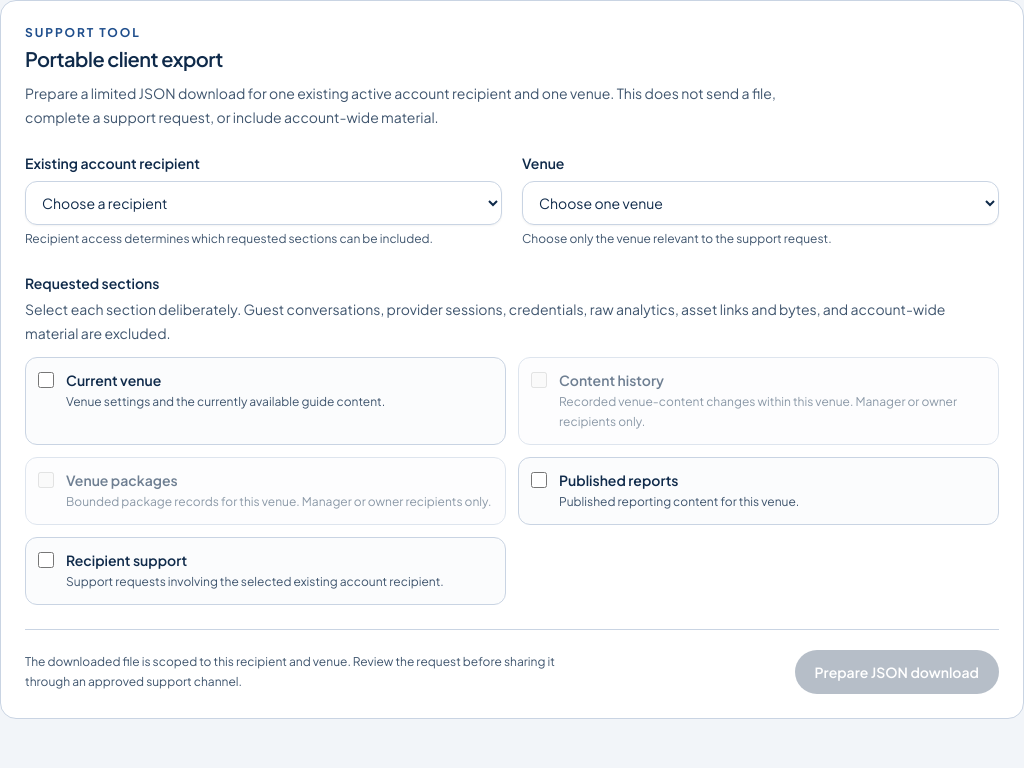
Scenario: SupportPortableExportForm › rejects a successful non-JSON response without downloading it
The width and height of the screenshot is (1024, 768).
Select "Avery Operator with a deliberately long name for the select control · avery@exam" in the dropdown labelled "Existing account recipient": (264, 203) left=25, top=181, right=502, bottom=225
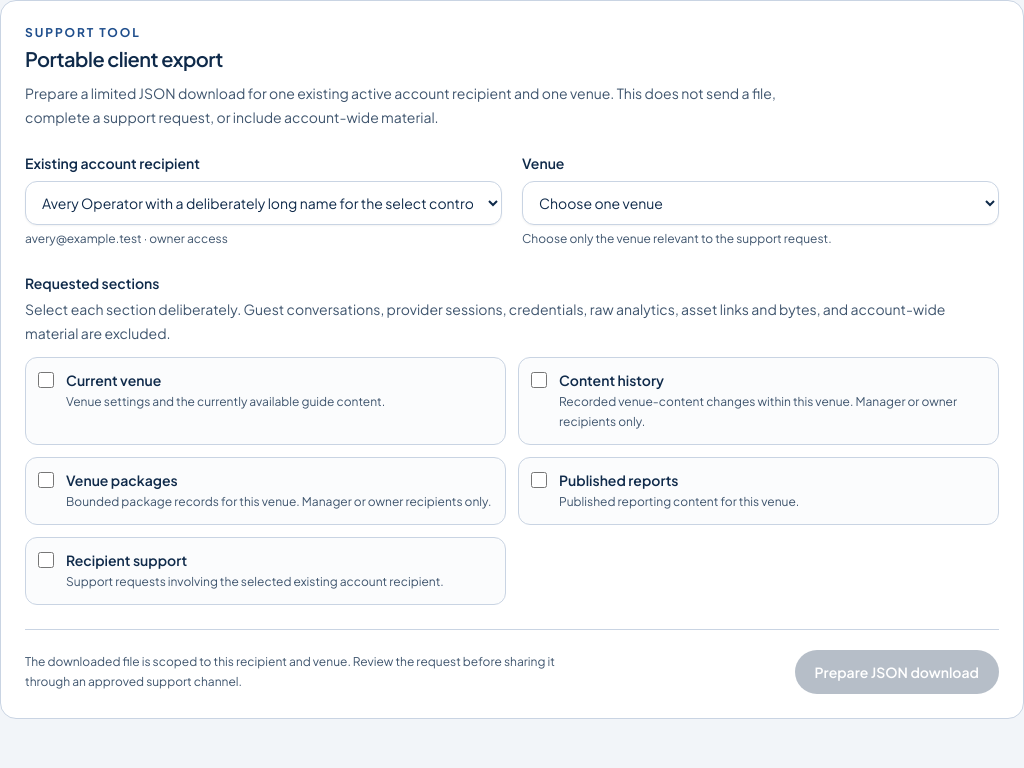
Select "Riverside Aquarium with an intentionally long venue label" in the dropdown labelled "Venue": (760, 203) left=522, top=181, right=999, bottom=225
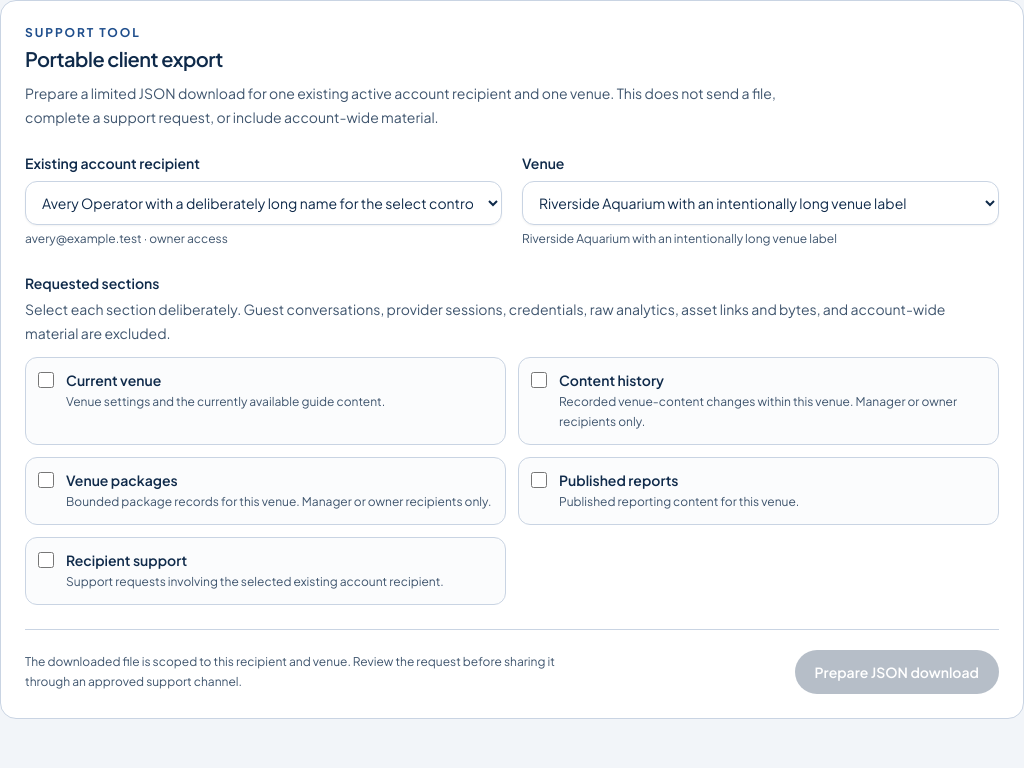
Click the checkbox labelled "Current venue": (46, 380) left=38, top=372, right=54, bottom=388
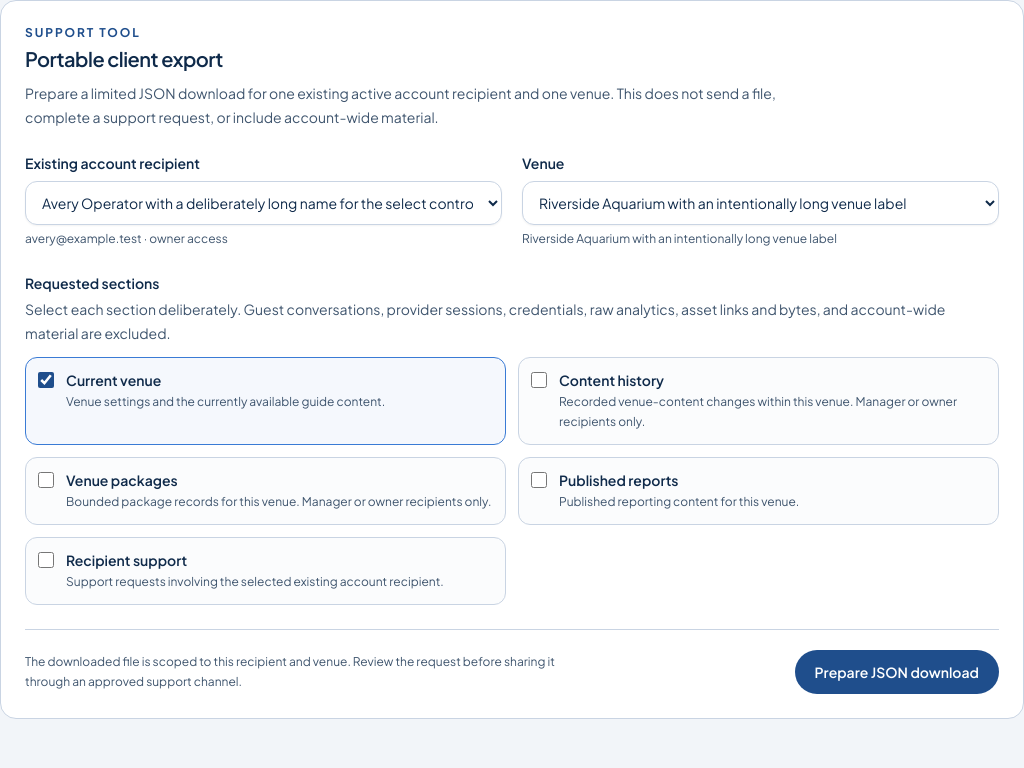
Click the button "Prepare JSON download": (897, 672) left=794, top=650, right=999, bottom=694
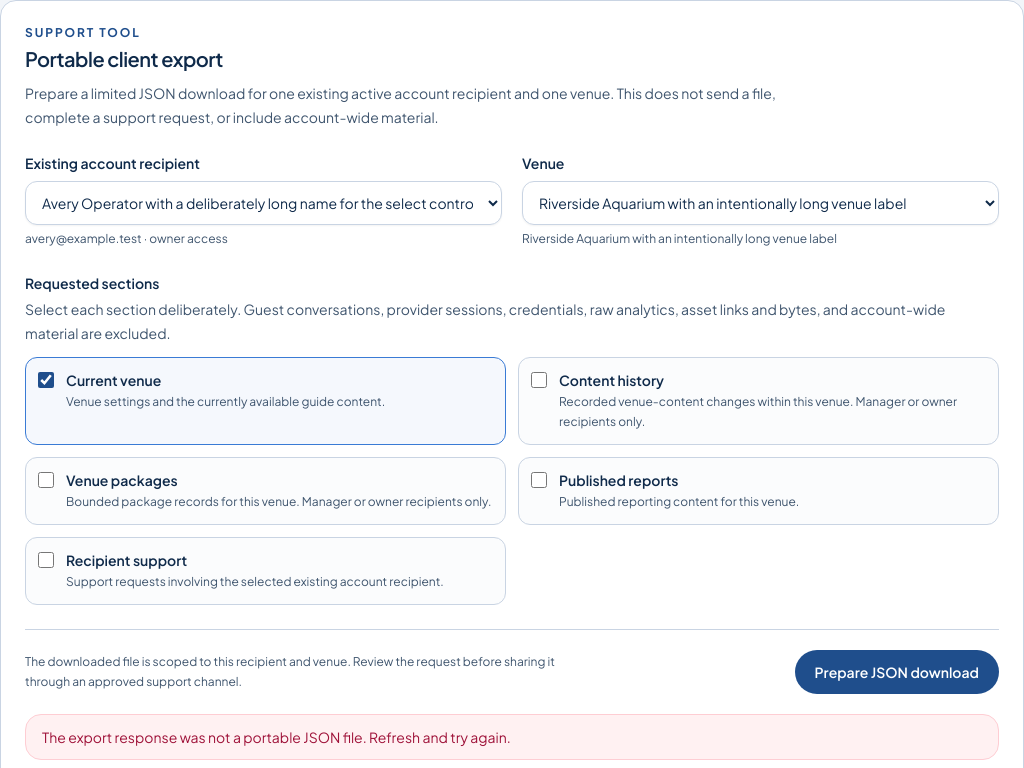
Result: the message shows "was not a portable JSON file" at left=42, top=728, right=511, bottom=746
